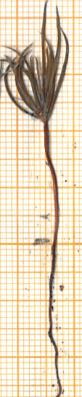flower: (0, 1, 82, 123)
root: (41, 243, 65, 397)
stem: (42, 124, 62, 244)
